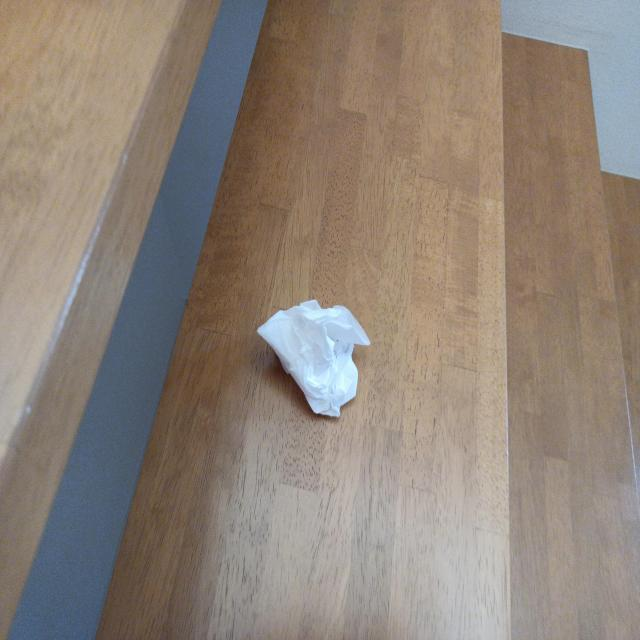衛生紙: (253, 289, 369, 421)
